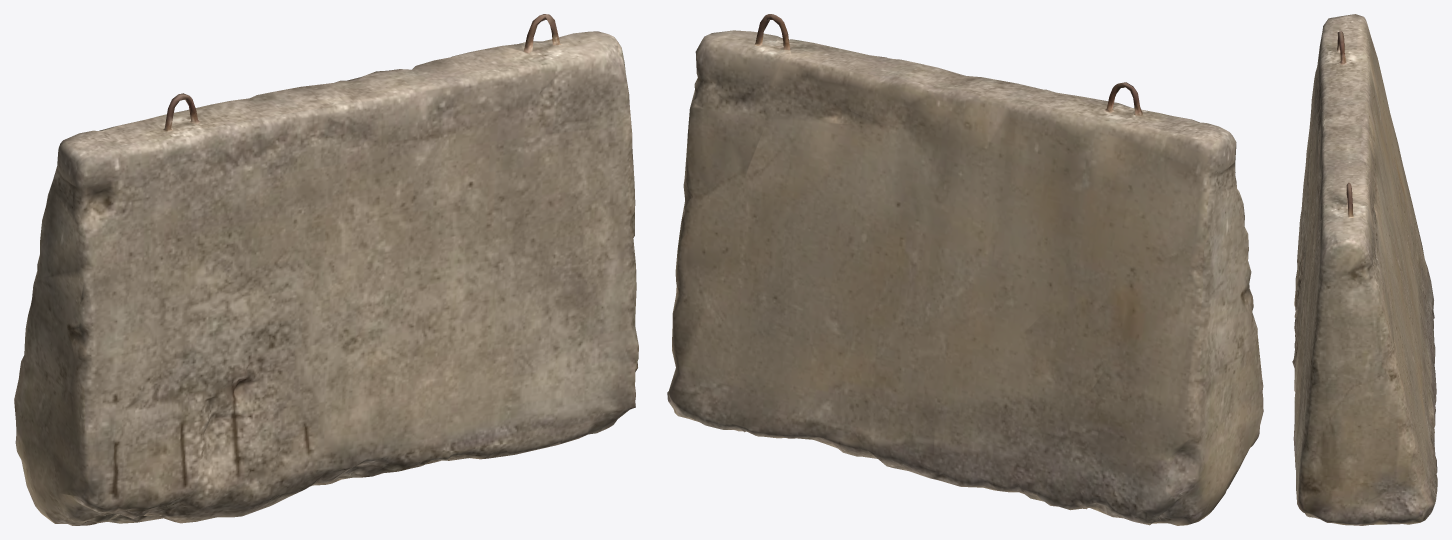
The model's file is concrete_road_barrier_02.glb.
3 views of the same model, side by side, from view 1: azimuth 30°, elevation 25°; view 2: azimuth 150°, elevation 25°; view 3: azimuth 270°, elevation 25° (orthographic). The views are drawn at different scales.
Parts seen in each view (by area): view 1: concrete_road_barrier_02; view 2: concrete_road_barrier_02; view 3: concrete_road_barrier_02.
Boxes of the visible parts, <box> form: concrete_road_barrier_02: <box>14,14,638,525</box>; concrete_road_barrier_02: <box>667,14,1263,525</box>; concrete_road_barrier_02: <box>1292,14,1437,525</box>.
Bounding box in the file's own units: 1.56 × 1.11 × 0.4421.
Materials: 1 (1 with a texture image).
